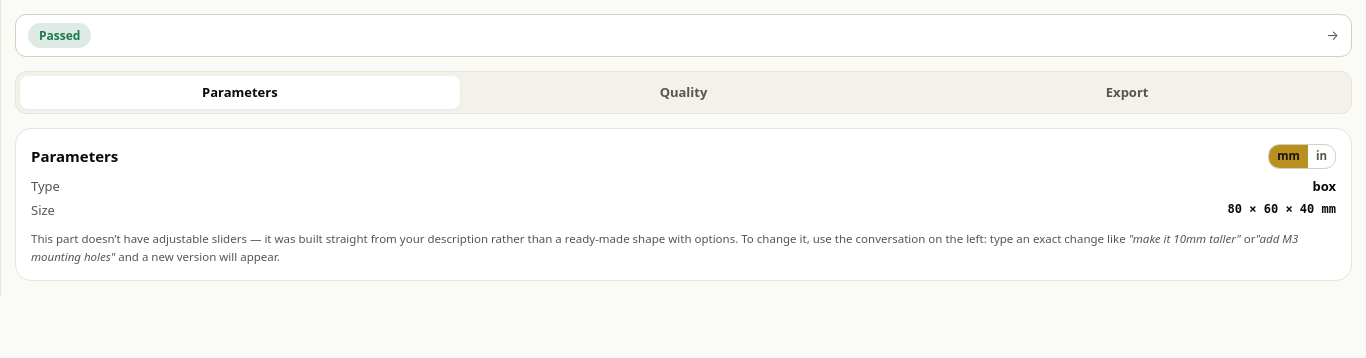
Scenario: RightPanel Inspector tabs › renders the three tabs with proper tablist semantics and switches panels
Expected: the column heading "Target" is not shown
Click the tab "Quality" at (684, 93), box top-left (464, 76), bottom-right (903, 109)
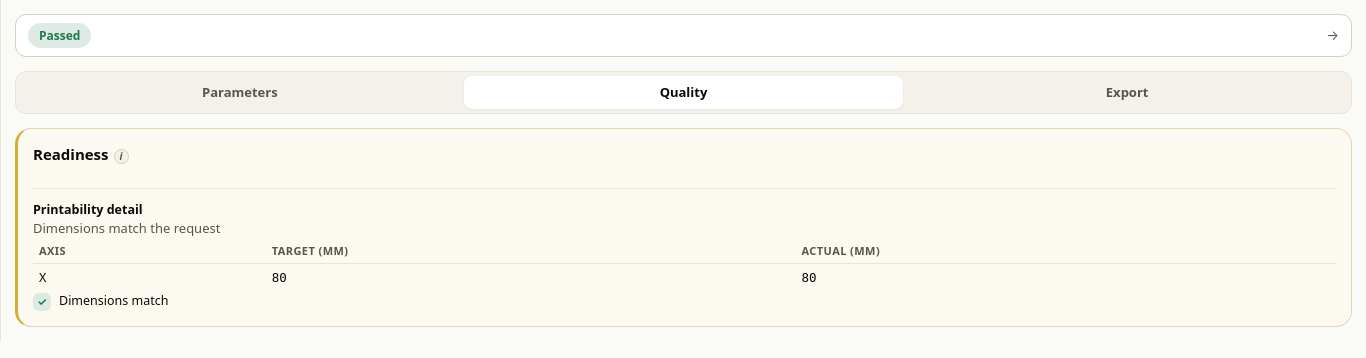
Result: the column heading "Target (mm)" is shown at top-left (266, 239), bottom-right (796, 263)
